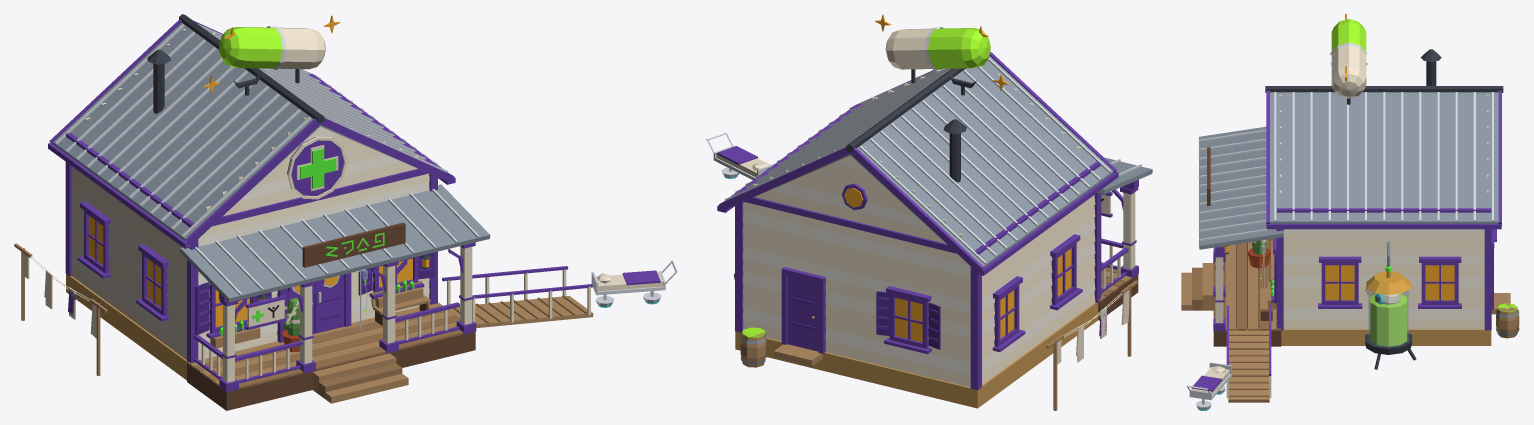
The model's file is Bldg_Medic.obj.
3 views of the same model, side by side, from view 1: azimuth 30°, elevation 25°; view 2: azimuth 150°, elevation 25°; view 3: azimuth 270°, elevation 25° (orthographic). The views are drawn at different scales.
Visible parts, largest first — view 1: Bldg_Medic_Body, Bldg_Medic_Gurney, Bldg_Medic_Door_R, Bldg_Medic_Sign; view 2: Bldg_Medic_Body, Bldg_Medic_Gurney; view 3: Bldg_Medic_Body, Bldg_Medic_Gurney.
Part boxes in pixels (x1,y1,x2,y2): Bldg_Medic_Body: [14, 14, 593, 410]; Bldg_Medic_Gurney: [591, 260, 677, 307]; Bldg_Medic_Door_R: [314, 274, 344, 333]; Bldg_Medic_Sign: [245, 290, 286, 329]; Bldg_Medic_Body: [717, 14, 1152, 410]; Bldg_Medic_Gurney: [706, 132, 775, 179]; Bldg_Medic_Body: [1181, 14, 1519, 402]; Bldg_Medic_Gurney: [1186, 362, 1231, 410].
Bounding box in the file's own units: 16.98 × 10.01 × 11.51.
